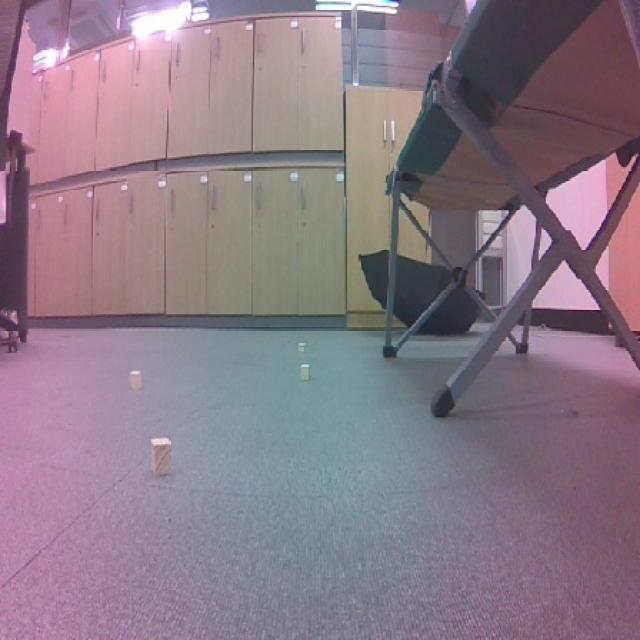obstacle: (138, 428, 183, 484)
